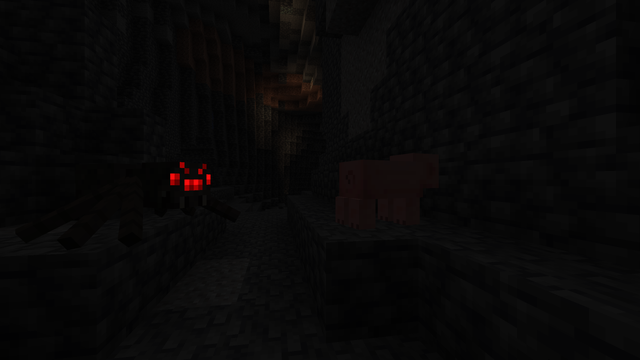araignees: (32, 149, 221, 246)
cochons: (341, 157, 425, 229)
